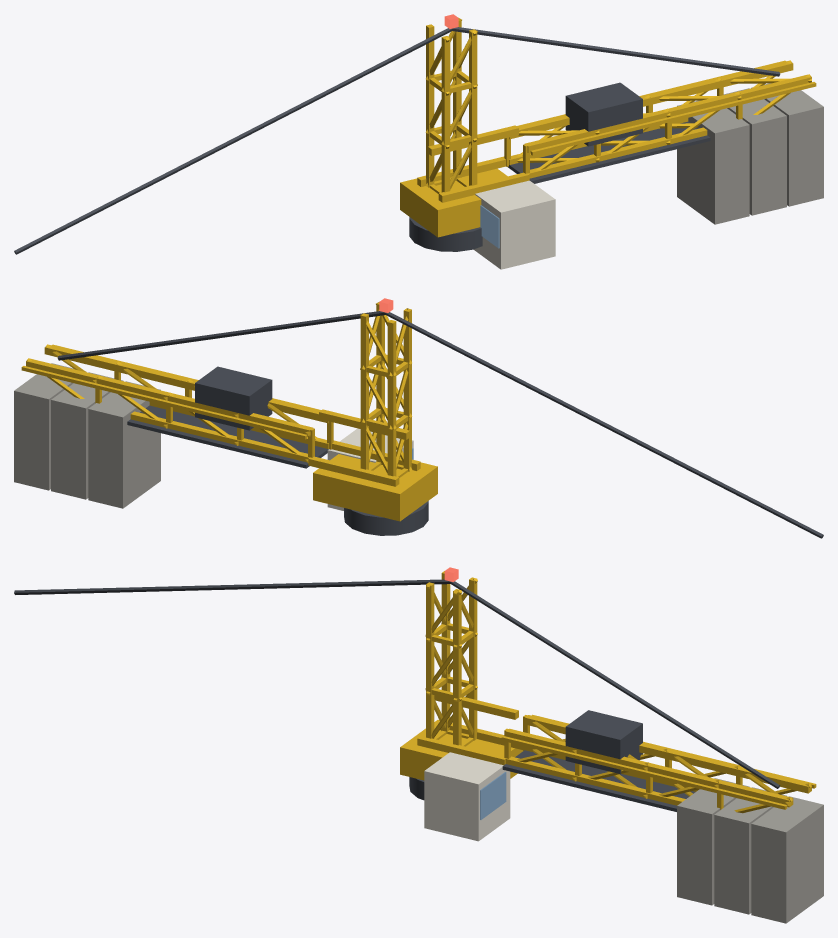
Rendered from crane-head.glb.
3 renders of one model, top to bottom at view 1: azimuth 30°, elevation 25°; view 2: azimuth 150°, elevation 25°; view 3: azimuth 330°, elevation 25°, orthographic.
Visible parts, largest first — view 1: part-crane, part-weight, part-crane-dark, part-cab, part-glass; view 2: part-crane, part-weight, part-crane-dark, part-cab; view 3: part-crane, part-weight, part-crane-dark, part-cab, part-glass.
Part boxes in pixels (left/top/right/bottom): part-crane: left=400, top=17, right=816, bottom=237; part-weight: left=677, top=83, right=823, bottom=224; part-crane-dark: left=14, top=27, right=780, bottom=254; part-cab: left=473, top=180, right=555, bottom=269; part-glass: left=480, top=205, right=499, bottom=248; part-crane: left=21, top=301, right=437, bottom=521; part-weight: left=14, top=363, right=160, bottom=508; part-crane-dark: left=57, top=311, right=823, bottom=538; part-cab: left=327, top=428, right=413, bottom=510; part-crane: left=400, top=571, right=816, bottom=813; part-weight: left=677, top=778, right=823, bottom=923; part-crane-dark: left=14, top=579, right=780, bottom=811; part-cab: left=424, top=752, right=510, bottom=841; part-glass: left=480, top=772, right=506, bottom=819.
Bounding box in the file's own units: 72.45 × 22.2 × 9.5.
